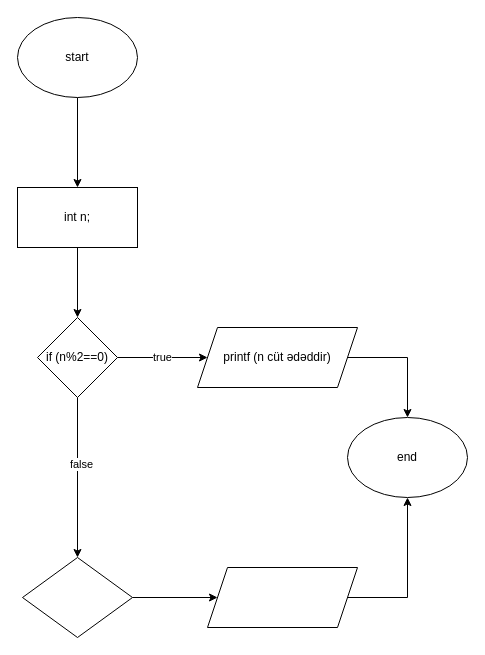
This 485x655 diagram has some shape labels left out. The box of each missing label's shape, as (x1, y1, x2, y2) in pixels:
else (n%2==1): (22, 556, 132, 638)
printf (n tək ədəddir): (206, 566, 358, 628)
